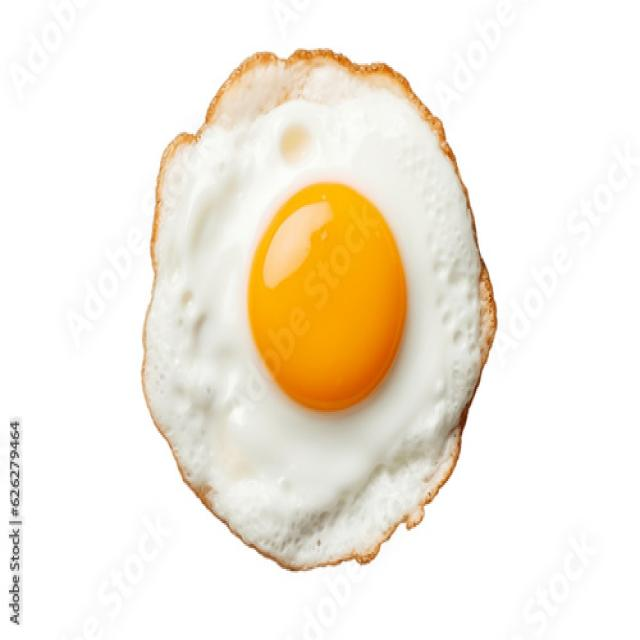Egg: (142, 51, 496, 568)
